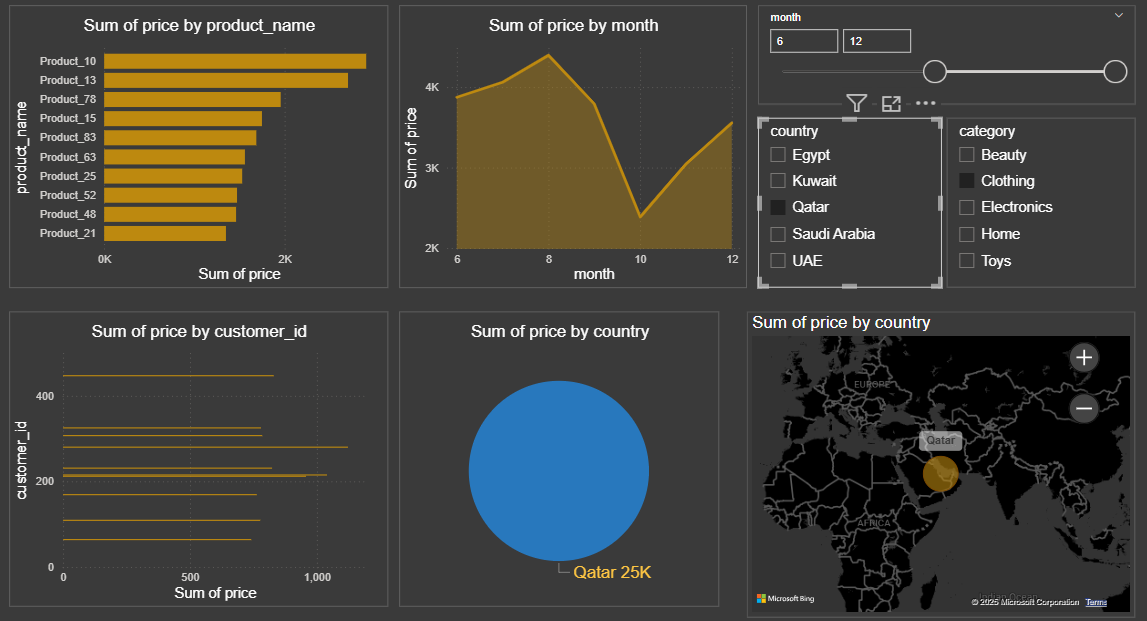

Layout of this report page (visuals, bound fields, positions):
{"tool":"powerbi","page":{"name":"Page 1","canvas":[1280,720],"ordinal":0},"visuals":[{"type":"areaChart","title":"Monthly Sales Trend","fields":{"Category":["orders_clean.month"],"Y":["Sum(orders_clean.price)"]},"box":[456.9,23.3,381.5,310.1],"z":0},{"type":"barChart","title":"Top 10 Best-Selling Products","fields":{"Category":["orders_clean.product_name"],"Y":["Sum(orders_clean.price)"]},"box":[28.8,23.3,415.8,310.1],"z":1000},{"type":"barChart","title":"Top 10 Customers by Spending","fields":{"Category":["orders_clean.customer_id"],"Y":["Sum(orders_clean.price)"]},"box":[28.8,359.5,415.8,323.8],"z":2000},{"type":"pieChart","title":"Sales Distribution by Country","fields":{"Series":["orders_clean.country"],"Y":["Sum(orders_clean.price)"]},"box":[456.9,359.5,351.3,323.8],"z":3000},{"type":"map","title":"Interactive Map of Sales by Country","fields":{"Category":["orders_clean.country"],"Size":["Sum(orders_clean.price)"]},"box":[838.4,359.5,426.8,336.2],"z":4000},{"type":"slicer","fields":{"Values":["orders_clean.month"]},"box":[850.8,23.3,414.4,108.4],"z":5000},{"type":"slicer","fields":{"Values":["orders_clean.country"]},"box":[850.8,146.8,201.7,186.6],"z":6000},{"type":"slicer","fields":{"Values":["orders_clean.category"]},"box":[1058,146.8,207.2,186.6],"z":7000}]}

Visuals, with their boxes on the page's 1280x720 design canvas (x1, y1, x2, y2). These are canvas units, not pixel positions in the 1147x621 screenshot, which may show the page scaled, cropped or inside an application window:
"Monthly Sales Trend" areaChart: select_region(457, 23, 838, 333)
"Top 10 Best-Selling Products" barChart: select_region(29, 23, 445, 333)
"Top 10 Customers by Spending" barChart: select_region(29, 360, 445, 683)
"Sales Distribution by Country" pieChart: select_region(457, 360, 808, 683)
"Interactive Map of Sales by Country" map: select_region(838, 360, 1265, 696)
slicer - orders_clean.month: select_region(851, 23, 1265, 132)
slicer - orders_clean.country: select_region(851, 147, 1052, 333)
slicer - orders_clean.category: select_region(1058, 147, 1265, 333)
